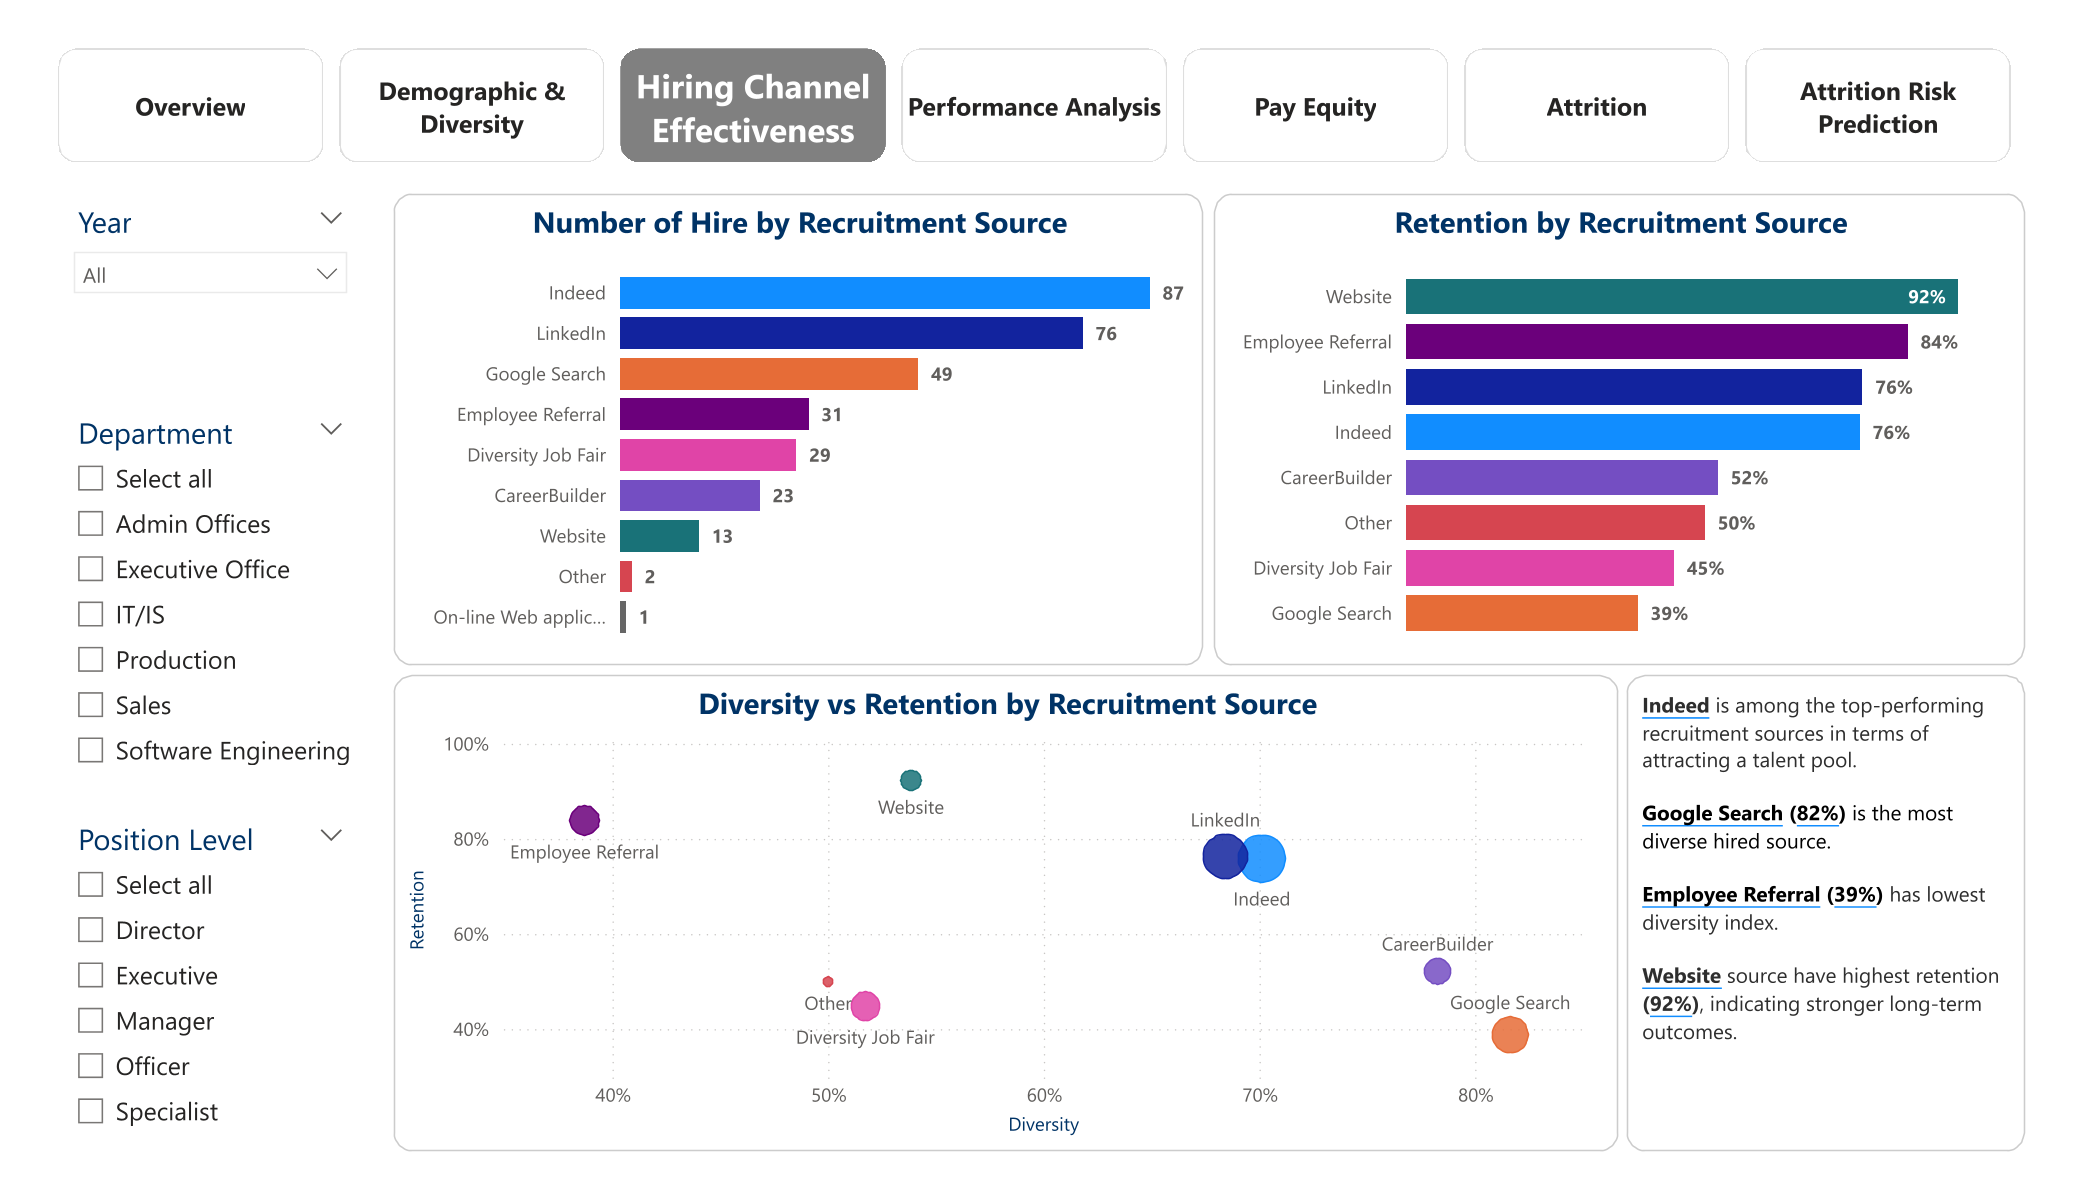

What the dashboard file says about the page in this screenshot:
{"tool":"powerbi","page":{"name":"Hiring Channel Effectiveness","canvas":[1280,720],"ordinal":2},"visuals":[{"type":"slicer","fields":{"Values":["DIM-Dept.Department"]},"box":[13.3,235,195,250],"z":0},{"type":"slicer","fields":{"Values":["DIM-Position.Position Level"]},"box":[13.3,495,195,216.7],"z":1000},{"type":"slicer","fields":{"Values":["FACT-HRData.Dateo f Hire.Variation.Date Hierarchy.Year"]},"box":[13.3,100,195,123.3],"z":2000},{"type":"clusteredBarChart","title":"Number of Hire by Recruitment Source","fields":{"Y":["FACT-HRData.Total HC"],"Category":["DIM-RecruitmentSource.Recruitment Source"]},"box":[228.3,100,518,301.7],"z":3000},{"type":"clusteredBarChart","title":"Retention by Recruitment Source","fields":{"Category":["DIM-RecruitmentSource.Recruitment Source"],"Y":["FACT-HRData.RetentionRate"]},"box":[753.3,100,518.3,301.7],"z":4000},{"type":"scatterChart","title":"Diversity vs Retention by Recruitment Source","fields":{"X":["FACT-HRData.DiversityIndex"],"Y":["FACT-HRData.RetentionRate"],"Size":["FACT-HRData.Total HC"],"Series":["DIM-RecruitmentSource.Recruitment Source"]},"box":[227.8,408.4,784.3,304.3],"z":5000},{"type":"textbox","box":[1016.9,408.4,255.5,304.3],"z":6000},{"type":"pageNavigator","box":[13.3,6.7,1255,73.3],"z":7000}]}

Visuals, with their boxes in screenshot pixels (x1, y1, x2, y2):
slicer - DIM-Dept.Department: select_region(58, 405, 363, 795)
slicer - DIM-Position.Position Level: select_region(58, 811, 363, 1150)
slicer - FACT-HRData.Dateo f Hire.Variation.Date Hierarchy.Year: select_region(58, 194, 363, 386)
"Number of Hire by Recruitment Source" clusteredBarChart: select_region(394, 194, 1204, 665)
"Retention by Recruitment Source" clusteredBarChart: select_region(1215, 194, 2024, 665)
"Diversity vs Retention by Recruitment Source" scatterChart: select_region(393, 676, 1619, 1151)
textbox: select_region(1626, 676, 2026, 1151)
pageNavigator: select_region(58, 48, 2019, 162)
